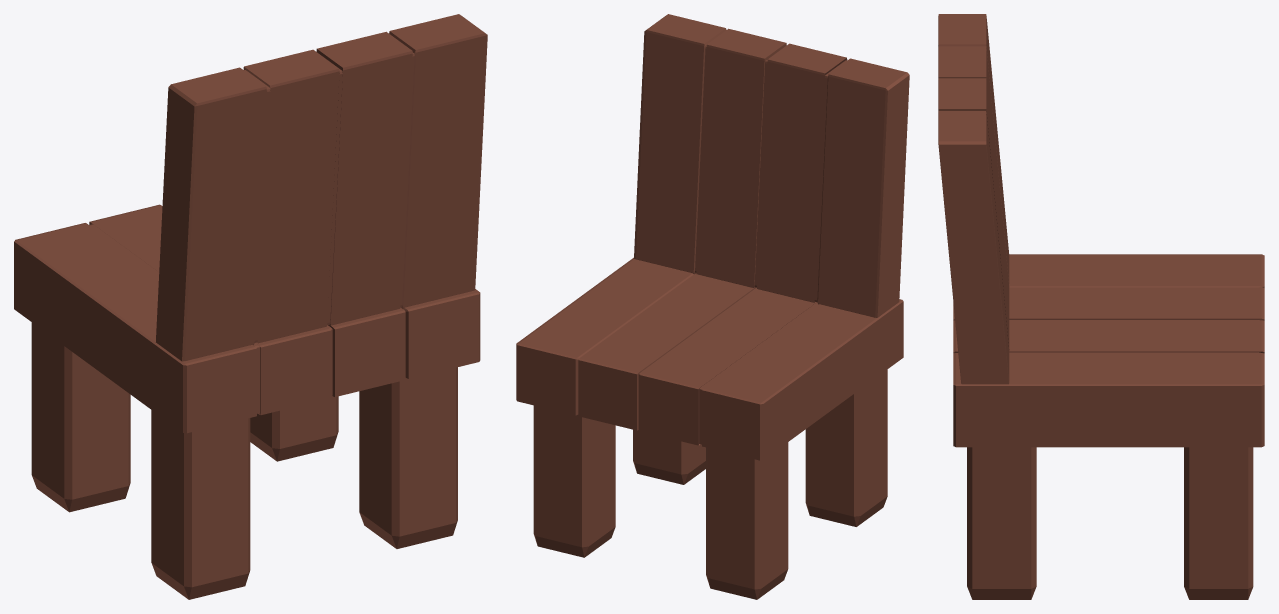
Rendered from Kitchen_Chair.fbx.
3 renders of one model, left to right at view 1: azimuth 30°, elevation 25°; view 2: azimuth 150°, elevation 25°; view 3: azimuth 270°, elevation 25°, orthographic. The views are drawn at different scales.
Parts seen in each view (by area): view 1: Kitchen_Chair; view 2: Kitchen_Chair; view 3: Kitchen_Chair.
Boxes of the visible parts, <box> form: Kitchen_Chair: <box>14,14,487,599</box>; Kitchen_Chair: <box>516,14,909,599</box>; Kitchen_Chair: <box>938,14,1264,599</box>.
Size of the model in its own units: 58.4 by 91.77 by 55.74.
